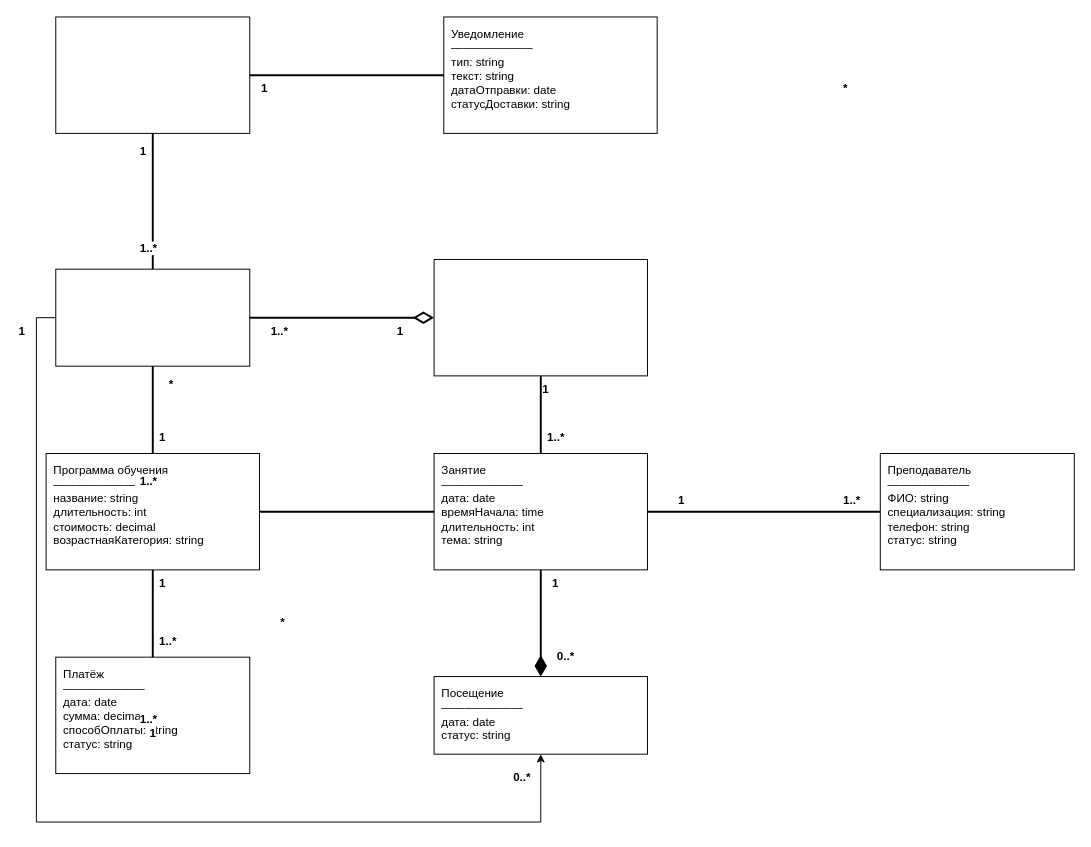
This 1091x847 diagram has some shape labels left out. The centre of each missing label's shape, as x and y in pixels:
"Группа ——————— номер: string максРазмер: int текущийСостав: int статус: string" goes at point (540, 317).
"Ребёнок ——————— ФИО: string датаРождения: date статус: string" goes at point (152, 317).
"Родитель ——————— ФИО: string телефон: string e-mail: string способОплаты: string" goes at point (152, 74).
